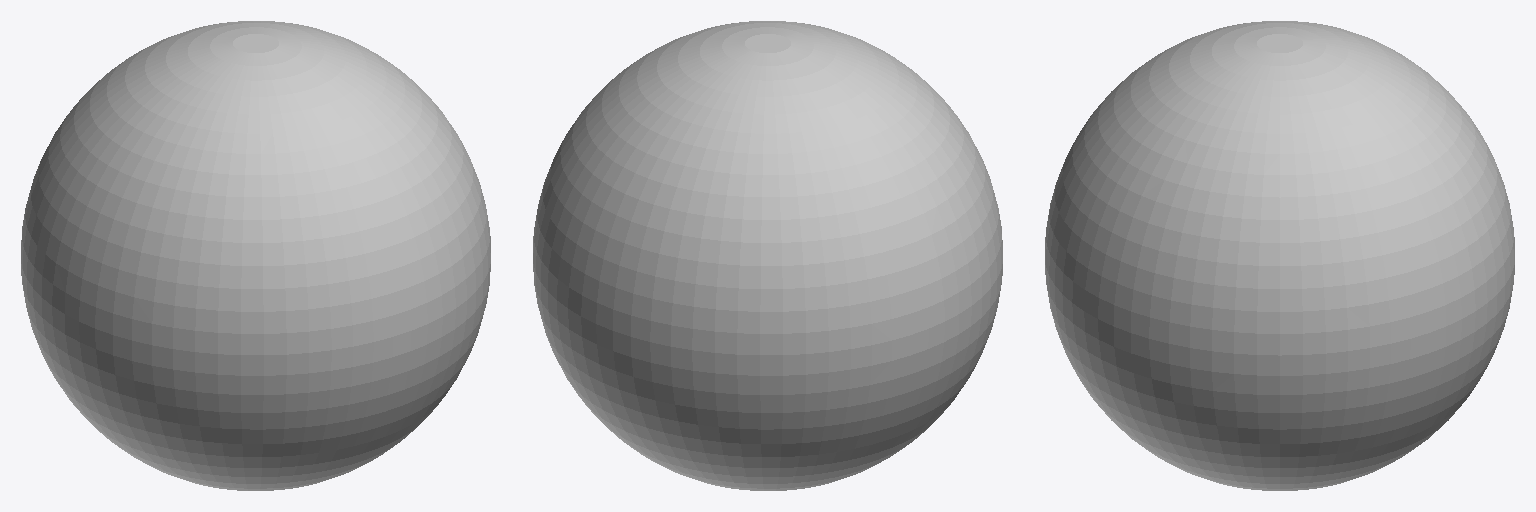
Rendered from cue.obj.
The picture shows the model from 3 angles: view 1: azimuth 30°, elevation 25°; view 2: azimuth 150°, elevation 25°; view 3: azimuth 270°, elevation 25°; orthographic projection.
Parts seen in each view (by area): view 1: planet_Sphere.015; view 2: planet_Sphere.015; view 3: planet_Sphere.015.
Part boxes in pixels (left/top/right/bottom): planet_Sphere.015: left=21, top=21, right=490, bottom=490; planet_Sphere.015: left=533, top=21, right=1002, bottom=490; planet_Sphere.015: left=1045, top=21, right=1514, bottom=490.
Bounding box in the file's own units: 0.2214 × 0.2204 × 0.2214.